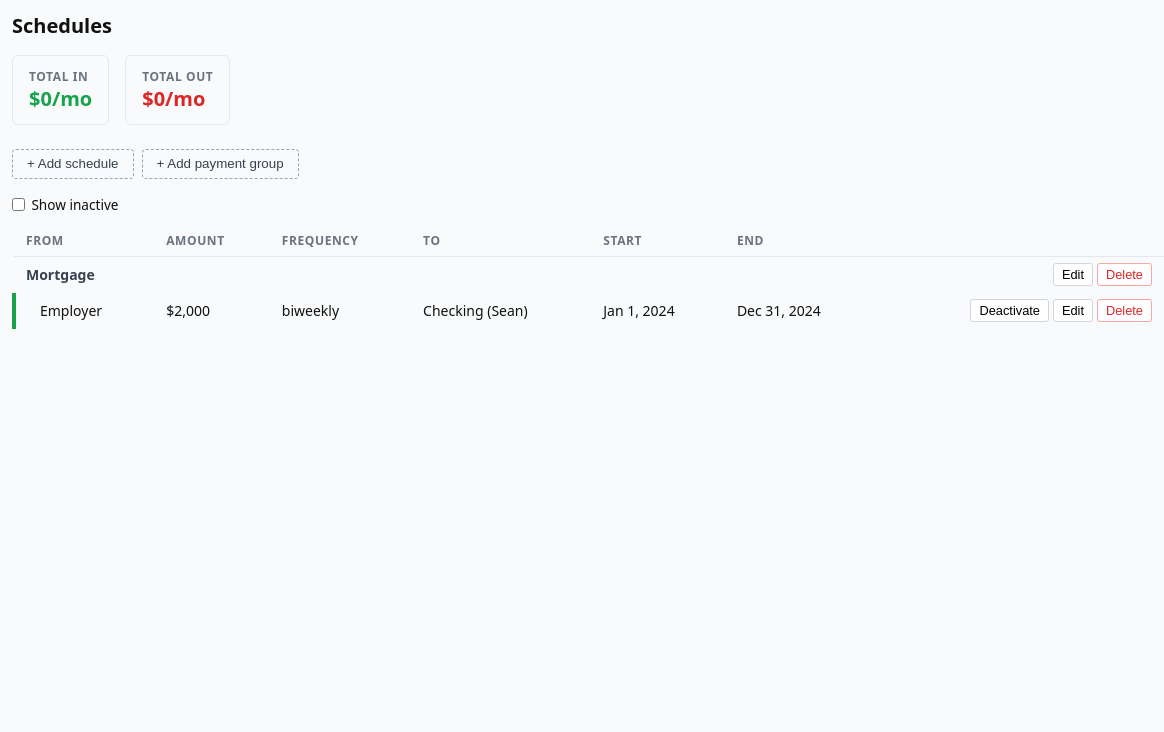
Test case: SchedulesView — Payment Groups › opens ScheduleGroupForm pre-populated when the group's Edit is clicked, hides on Cancel
Click the button "Edit" in the row of "Mortgage" at (1073, 275), box [1053,263,1093,286]
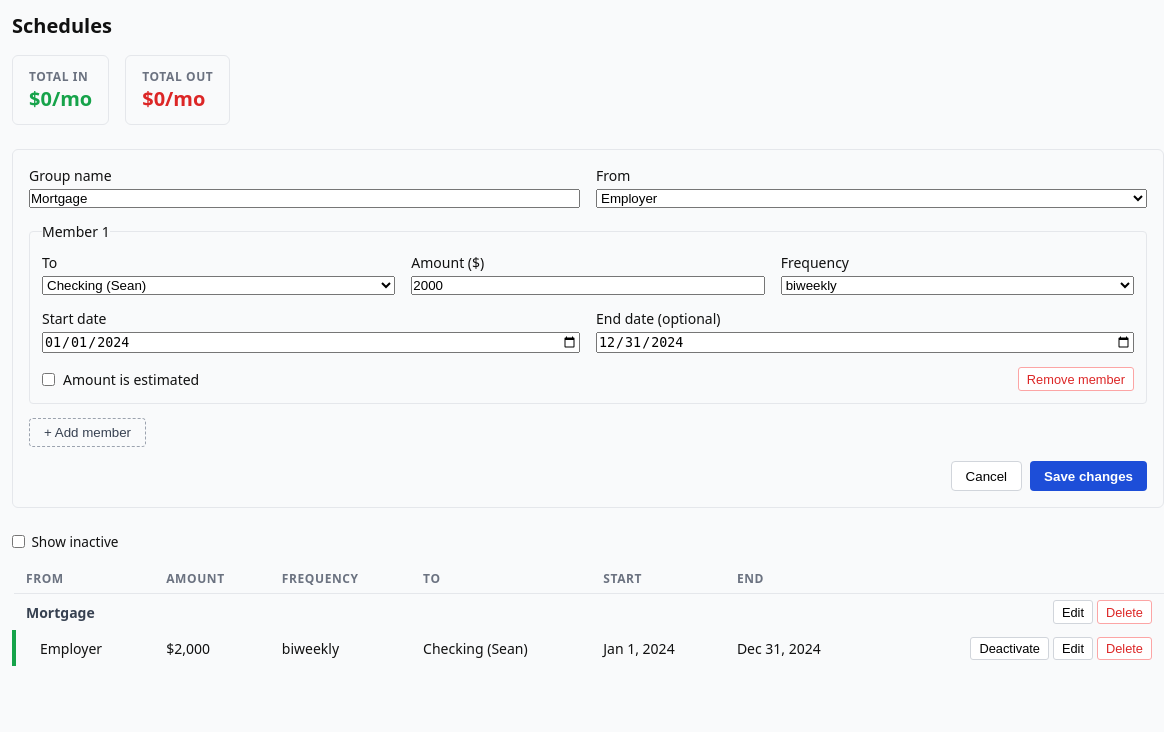
Expected: the button "Save changes" is shown, [1030,462,1147,491]
Expected: the field labelled "Group name" holds "Mortgage", [29,189,580,208]
Click the button "Cancel" at (986, 476), box [951,462,1022,491]
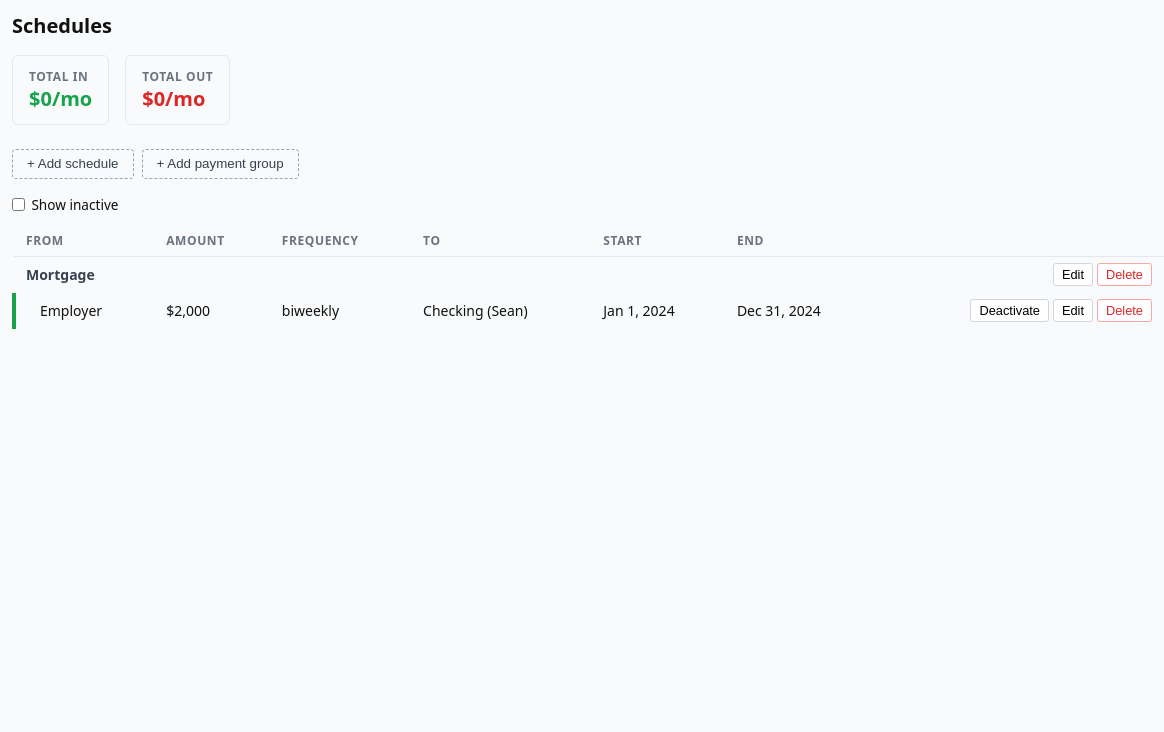
Expected: the label labelled "Group name" is gone
